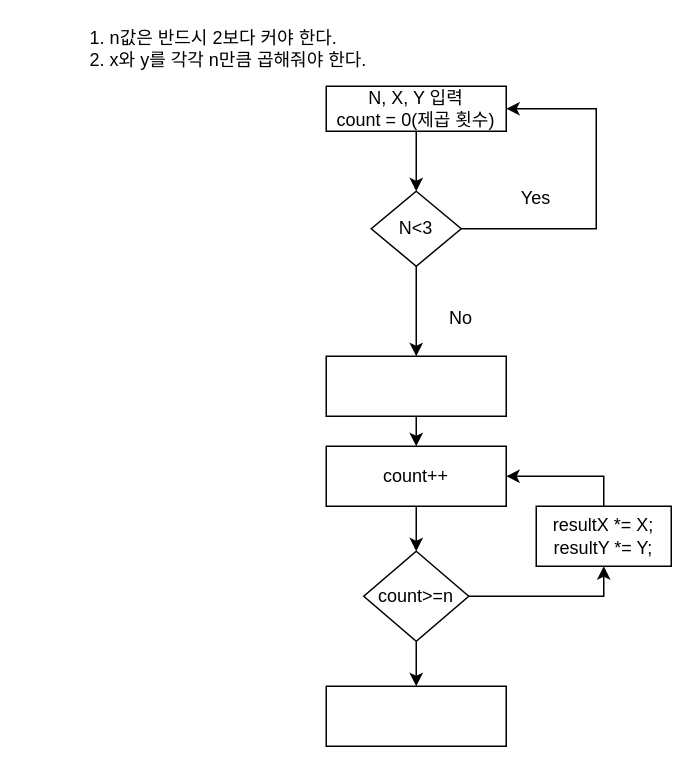
This 698x773 diagram has some shape labels left out. The shapes that lost their labels are listed below. From the top down, each one's centre as x and y in pixels, then its label:
At pixel 415 385: "resultX = x; resultY = y;".
At pixel 415 715: "resultX, resultY를 더한값을 출력(Z^N)".
